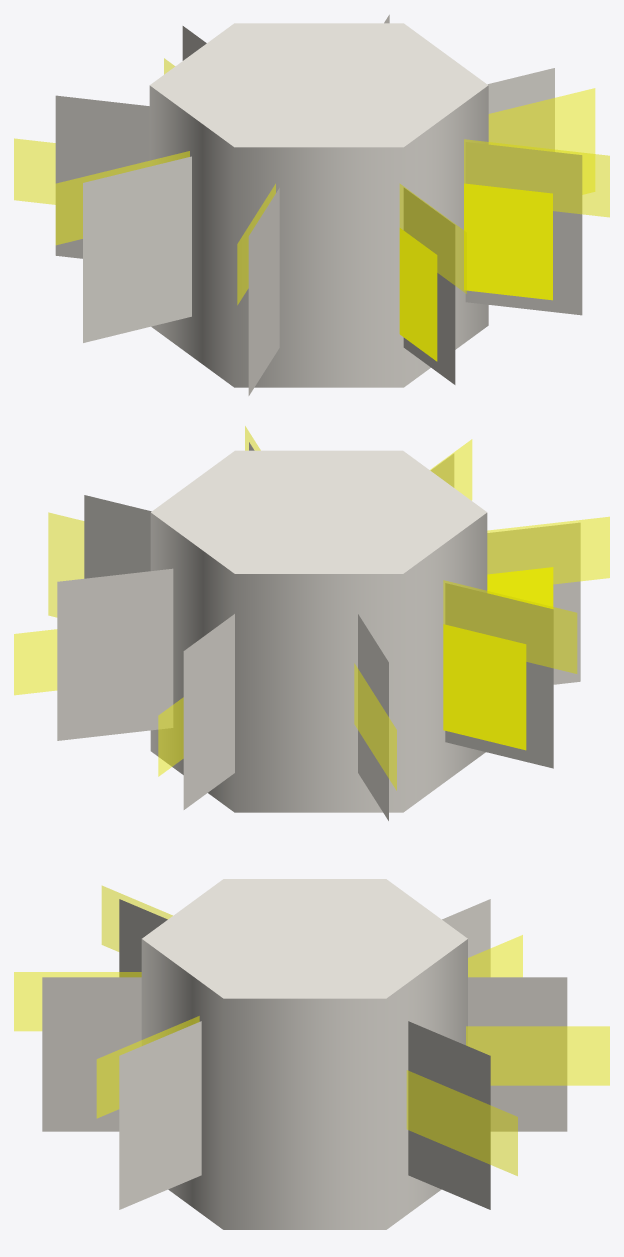
The model's file is hexagonal-prism.glb.
3 views of the same model, one above another, from view 1: azimuth 30°, elevation 25°; view 2: azimuth 150°, elevation 25°; view 3: azimuth 270°, elevation 25° (orthographic). The views are drawn at different scales.
Parts seen in each view (by area): view 1: TriQR_Body, TriQR_Label (×6), TriQR_FaceSurface_face-5, TriQR_FaceSurface_face-2, TriQR_QR_face-2, TriQR_FaceSurface_face-6, TriQR_FaceSurface_face-4, TriQR_FaceSurface_face-3, TriQR_FaceSurface_name-face, TriQR_QR_face-3; view 2: TriQR_Body, TriQR_Label (×7), TriQR_FaceSurface_face-8, TriQR_QR_face-5, TriQR_FaceSurface_face-5, TriQR_FaceSurface_face-7, TriQR_FaceSurface_face-4, TriQR_FaceSurface_face-6, TriQR_FaceSurface_name-face, TriQR_QR_face-4; view 3: TriQR_Body, TriQR_Label (×6), TriQR_FaceSurface_face-3, TriQR_FaceSurface_face-7, TriQR_FaceSurface_face-2, TriQR_FaceSurface_face-8, TriQR_FaceSurface_face-6, TriQR_FaceSurface_face-4.
Part boxes in pixels (x1,y1,x2,y2): TriQR_Body: [149, 23, 488, 387]; TriQR_Label (×6): [14, 88, 609, 304]; TriQR_FaceSurface_face-5: [83, 156, 191, 342]; TriQR_FaceSurface_face-2: [465, 142, 582, 315]; TriQR_QR_face-2: [464, 183, 552, 300]; TriQR_FaceSurface_face-6: [55, 95, 149, 258]; TriQR_FaceSurface_face-4: [248, 188, 279, 395]; TriQR_FaceSurface_face-3: [403, 188, 455, 384]; TriQR_FaceSurface_name-face: [487, 68, 554, 151]; TriQR_QR_face-3: [399, 228, 437, 361]; TriQR_Body: [150, 450, 487, 812]; TriQR_Label (×7): [14, 439, 609, 790]; TriQR_FaceSurface_face-8: [57, 568, 173, 740]; TriQR_QR_face-5: [443, 624, 526, 750]; TriQR_FaceSurface_face-5: [445, 583, 553, 768]; TriQR_FaceSurface_face-7: [183, 614, 234, 809]; TriQR_FaceSurface_face-4: [487, 522, 580, 684]; TriQR_FaceSurface_face-6: [358, 614, 388, 820]; TriQR_FaceSurface_name-face: [84, 495, 151, 578]; TriQR_QR_face-4: [487, 567, 553, 608]; TriQR_Body: [141, 879, 467, 1229]; TriQR_Label (×6): [14, 885, 609, 1175]; TriQR_FaceSurface_face-3: [42, 977, 141, 1131]; TriQR_FaceSurface_face-7: [468, 977, 567, 1131]; TriQR_FaceSurface_face-2: [119, 1021, 201, 1209]; TriQR_FaceSurface_face-8: [408, 1021, 490, 1209]; TriQR_FaceSurface_face-6: [442, 899, 490, 977]; TriQR_FaceSurface_face-4: [119, 899, 167, 977].
Size of the model in its own units: 4.2 by 1.8 by 4.2.
Materials: 21 (12 with a texture image).
